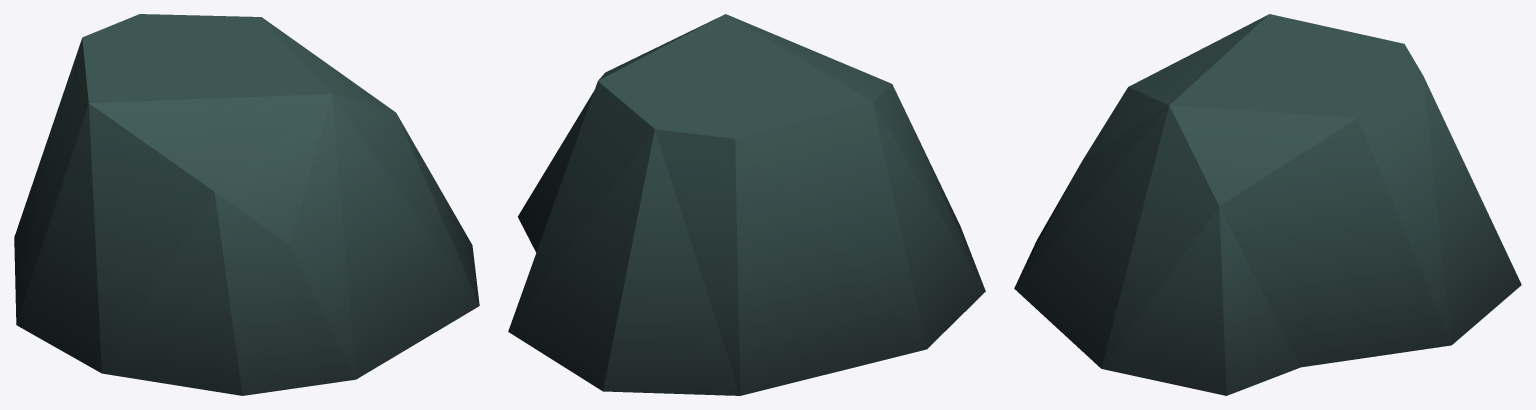
Rendered from SM_Rock_base_10.fbx.
3 views of the same model, side by side, from view 1: azimuth 30°, elevation 25°; view 2: azimuth 150°, elevation 25°; view 3: azimuth 270°, elevation 25° (orthographic). The views are drawn at different scales.
Visible parts, largest first — view 1: Rock_base_10; view 2: Rock_base_10; view 3: Rock_base_10.
Boxes of the visible parts, x1=… form: Rock_base_10: x1=14, y1=14, x2=479, y2=395; Rock_base_10: x1=508, y1=14, x2=985, y2=395; Rock_base_10: x1=1014, y1=14, x2=1521, y2=395.
Bounding box in the file's own units: 298 × 144 × 316.
1 material, 1 textured.
